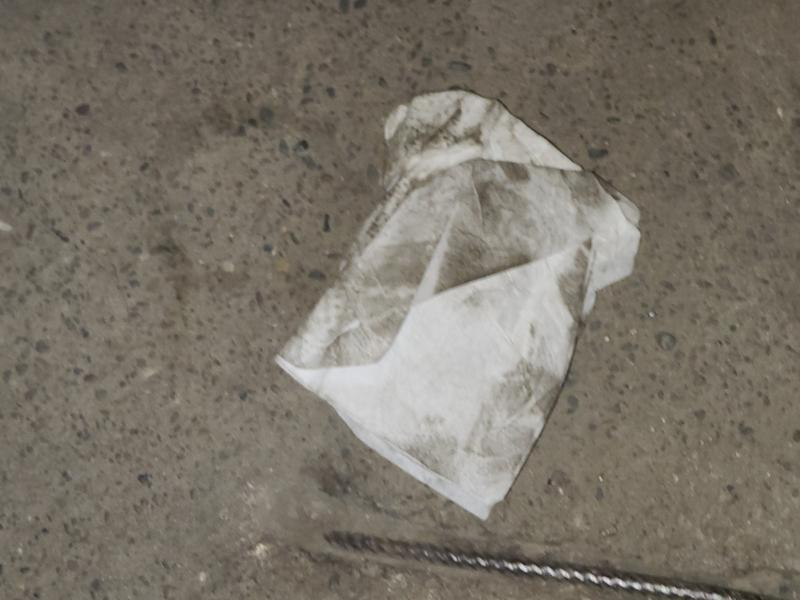papel: (273, 88, 643, 522)
